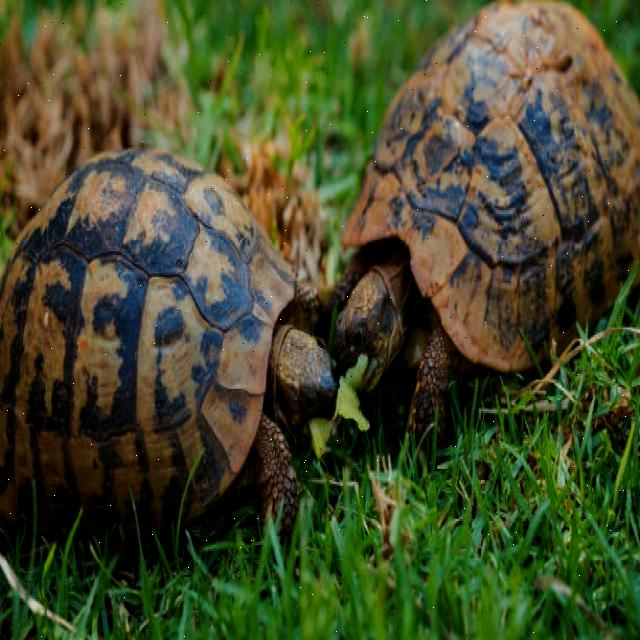tortoise: (1, 130, 340, 552), (328, 0, 640, 456)
